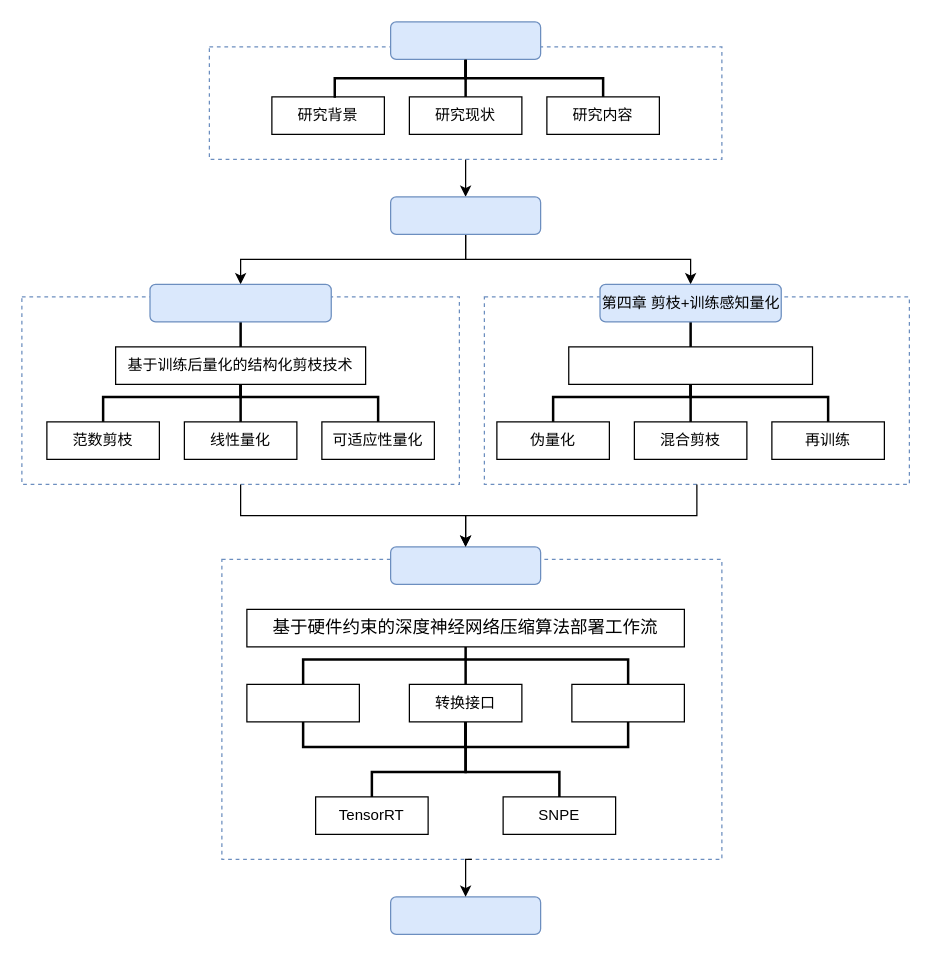
Image size: 931x956. Some labels were removed from this diagram. Each missing label, with the centre of its shape:
合并BN层: point 302,702
基于训练感知量化的混合剪枝技术: point 690,365
硬件部署: point 627,702
第一章 绪论: point 465,40
第三章 剪枝+训练后量化: point 240,302
第二章 相关背景介绍: point 465,215
第五章 压缩算法部署: point 465,565
第六章 总结与展望: point 465,915
